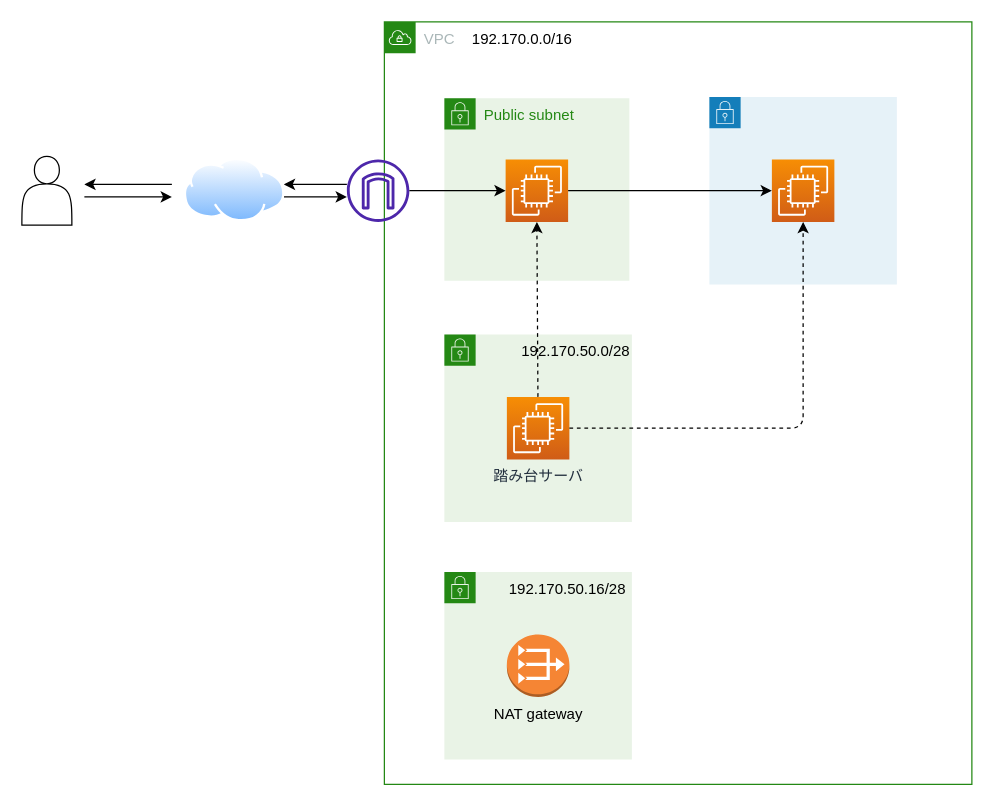
Image size: 994x806. Some labels were removed from this diagram. The centre of each missing label's shape, as x and y in pixels:
DBサーバ: the point at 802,190
アプリケーションサーバ: the point at 536,190
